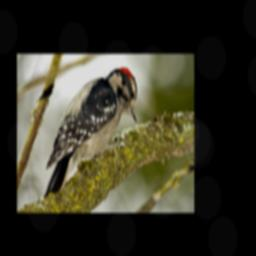Woodpecker: (35, 65, 138, 203)
